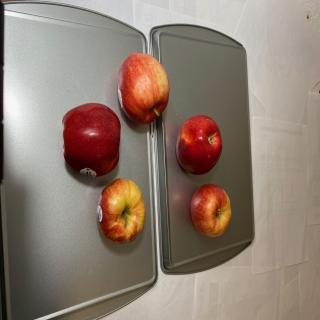Apple: (61, 103, 120, 177), (118, 52, 170, 125), (96, 178, 146, 244), (175, 115, 222, 175), (190, 184, 232, 238)
